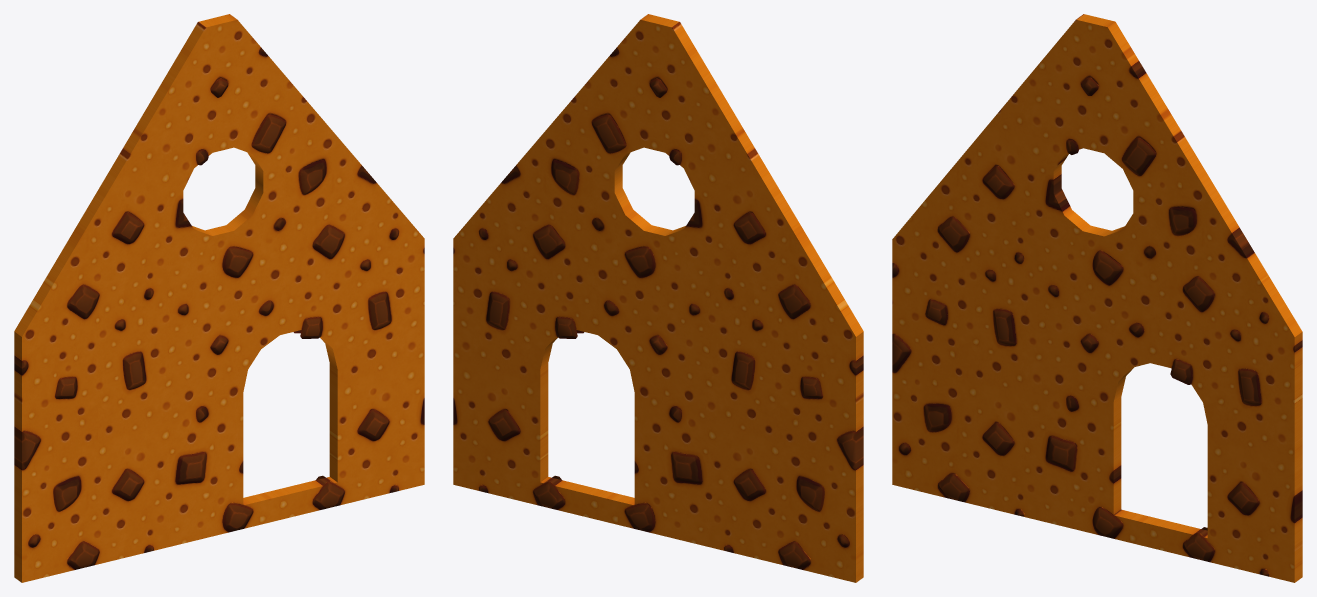
Rendered from parede_biscoito_empena_porta_pacote.glb.
3 views of the same model, side by side, from view 1: azimuth 30°, elevation 25°; view 2: azimuth 150°, elevation 25°; view 3: azimuth 330°, elevation 25° (orthographic).
Parts seen in each view (by area): view 1: colisao_malha; view 2: colisao_malha; view 3: colisao_malha.
Boxes of the visible parts, <box> form: colisao_malha: <box>14,14,424,582</box>; colisao_malha: <box>453,14,863,582</box>; colisao_malha: <box>892,14,1302,582</box>.
Bounding box in the file's own units: 5.4 × 6.54 × 0.2747.
Materials: 1 (1 with a texture image).
